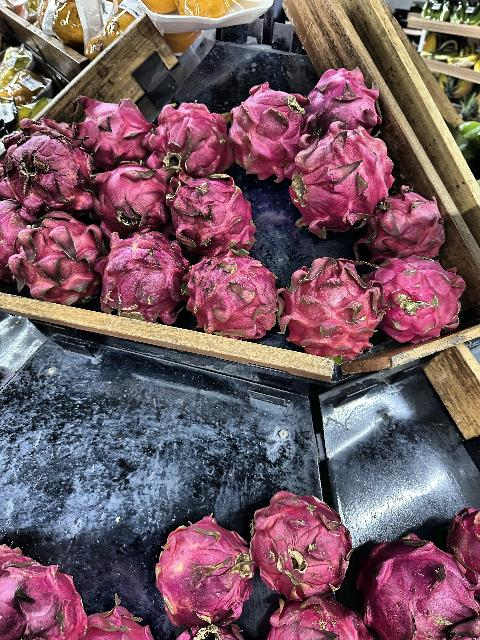buah-naga-belum-matang: (146, 512, 260, 620)
buah-naga-matang: (344, 526, 480, 638), (275, 256, 385, 360), (281, 125, 393, 222), (248, 495, 354, 597), (356, 248, 472, 340), (181, 252, 293, 336), (96, 225, 192, 318), (9, 214, 103, 304), (164, 172, 260, 260), (232, 81, 308, 189), (2, 125, 92, 211), (142, 102, 242, 174), (57, 96, 154, 162), (300, 64, 386, 136), (89, 161, 169, 231), (361, 200, 447, 260)
